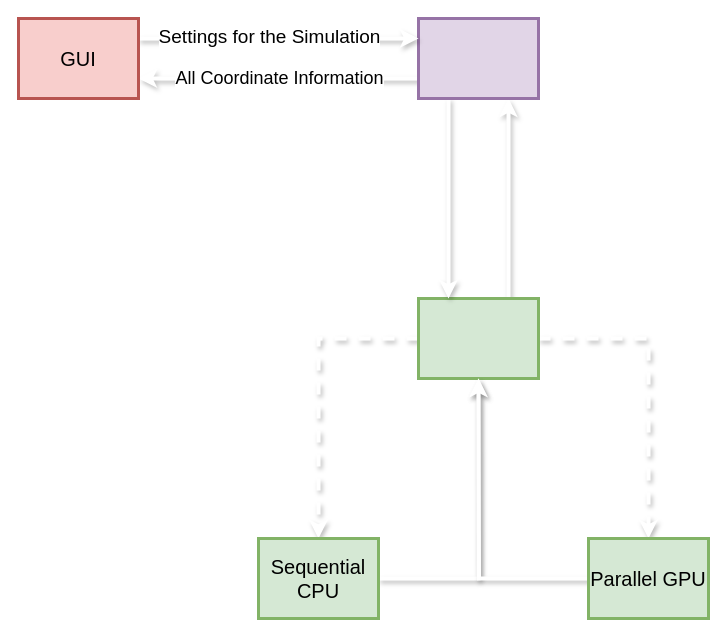
Image size: 727x637. Some labels were removed from this diagram. The shapes that lost their labels are listed below. From the top down, each one's centre as x and y in pixels, then its label:
the point at 478,58: Command Line
the point at 478,338: Program
